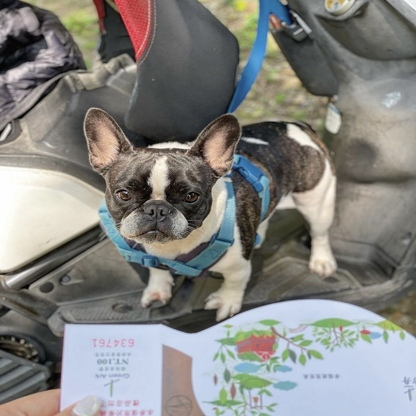bulldog: (81, 103, 341, 323)
